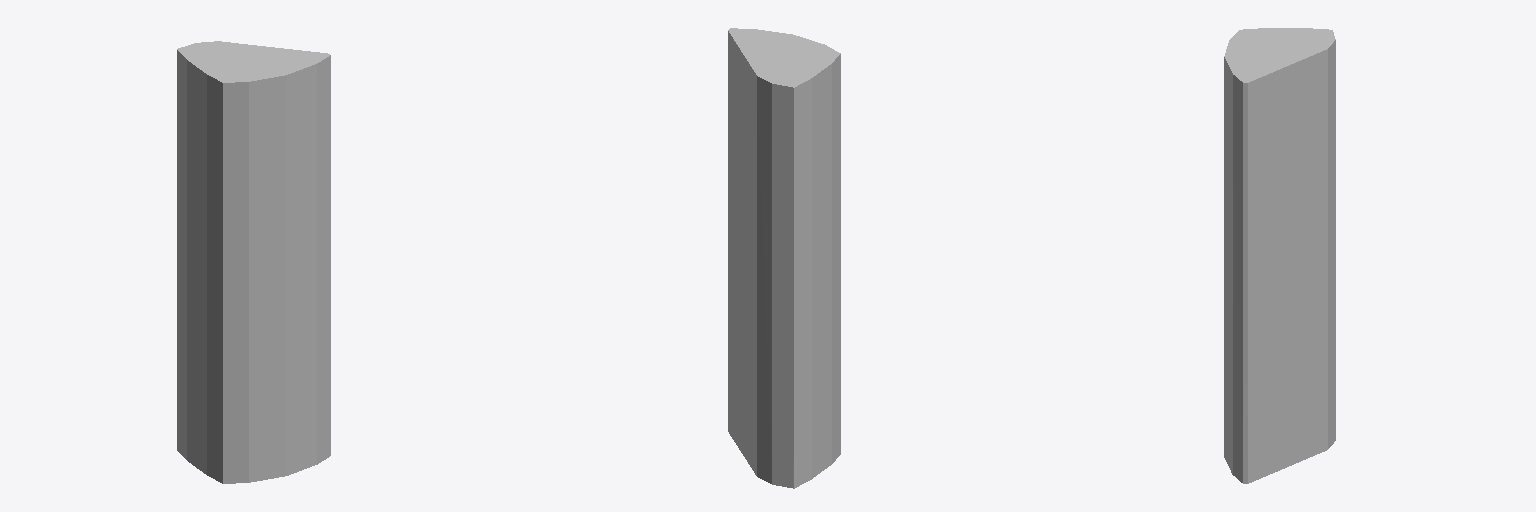
The model's file is work_bench_collision_32.obj.
3 renders of one model, left to right at view 1: azimuth 30°, elevation 25°; view 2: azimuth 150°, elevation 25°; view 3: azimuth 270°, elevation 25°, orthographic.
Bounding box in the file's own units: 0.0597 × 0.2036 × 0.0512.